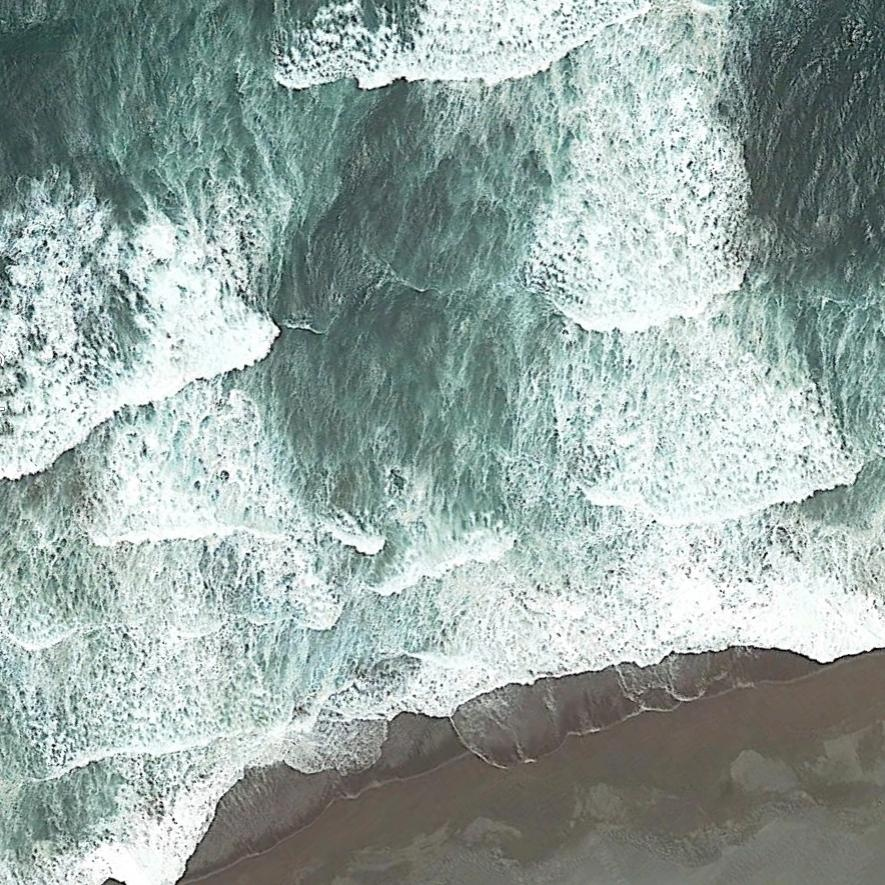rip_current: (164, 31, 615, 600)
